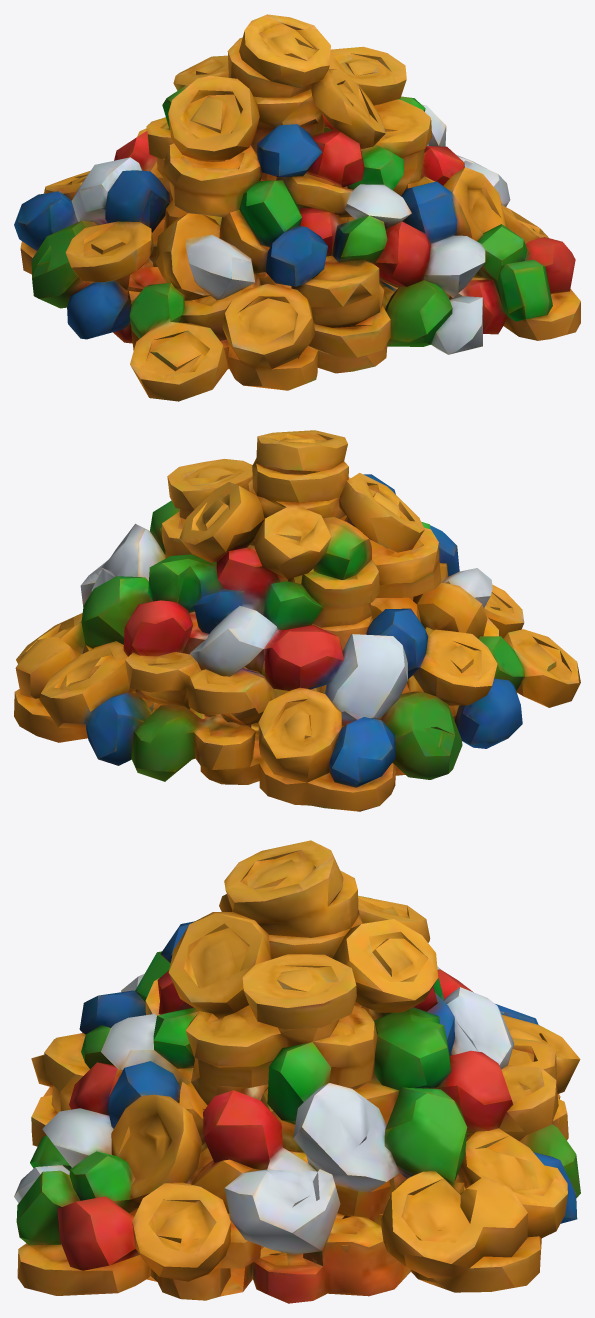
The model's file is x-treasurepile.glb.
The picture shows the model from 3 angles, top to bottom: view 1: azimuth 30°, elevation 25°; view 2: azimuth 150°, elevation 25°; view 3: azimuth 270°, elevation 25°; orthographic projection. The views are drawn at different scales.
Visible parts, largest first — view 1: geometry_0; view 2: geometry_0; view 3: geometry_0.
Boxes of the visible parts, <box> form: geometry_0: <box>14,14,580,401</box>; geometry_0: <box>14,430,580,811</box>; geometry_0: <box>14,840,580,1303</box>.
Size of the model in its own units: 0.32 by 0.1947 by 0.3025.
Materials: 1 (1 with a texture image).
